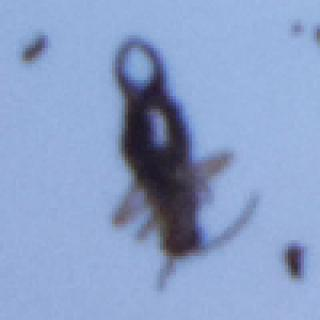earwig: (102, 28, 259, 289)
